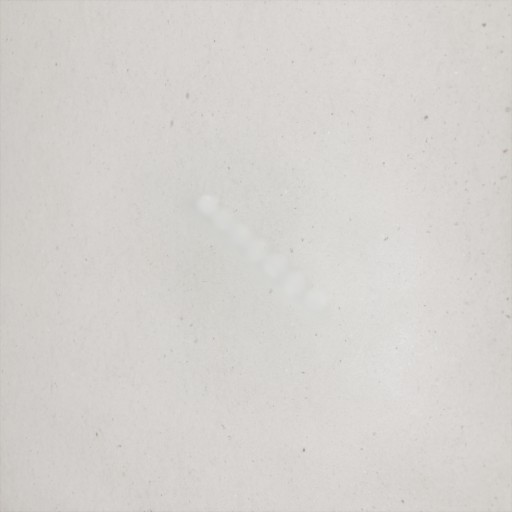lego: (178, 193, 335, 330)
